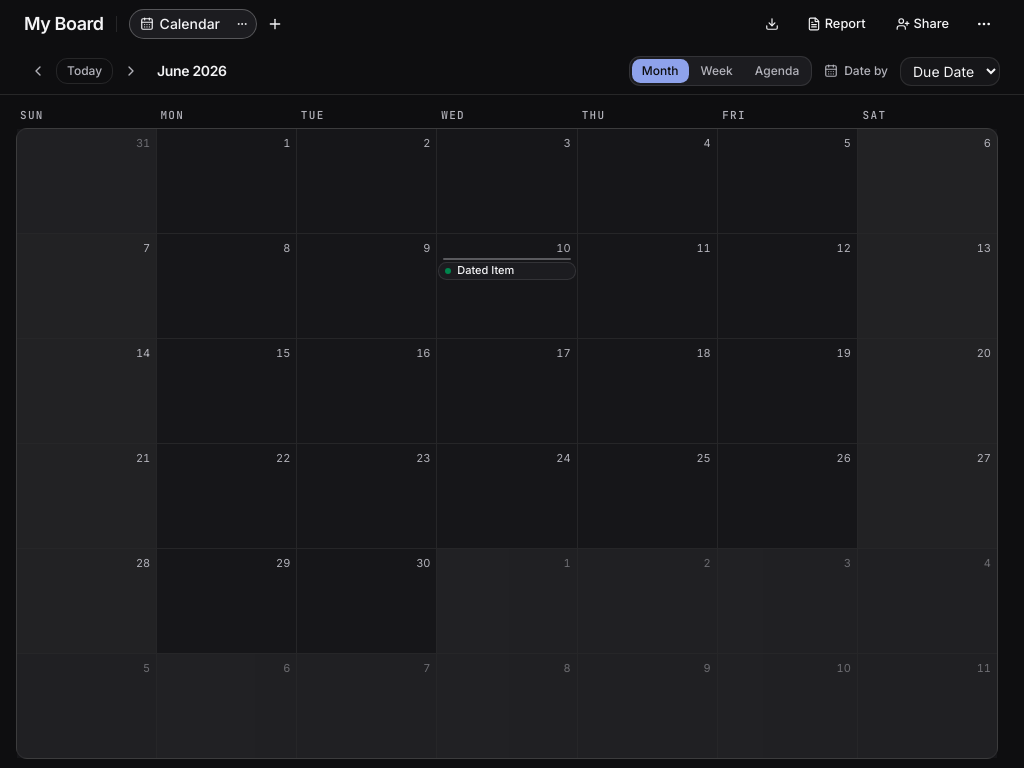
Test: CalendarBoard — quick-edit peek › opens the peek from an agenda row too
Click the tab "Agenda": (777, 71) [745,59,809,83]
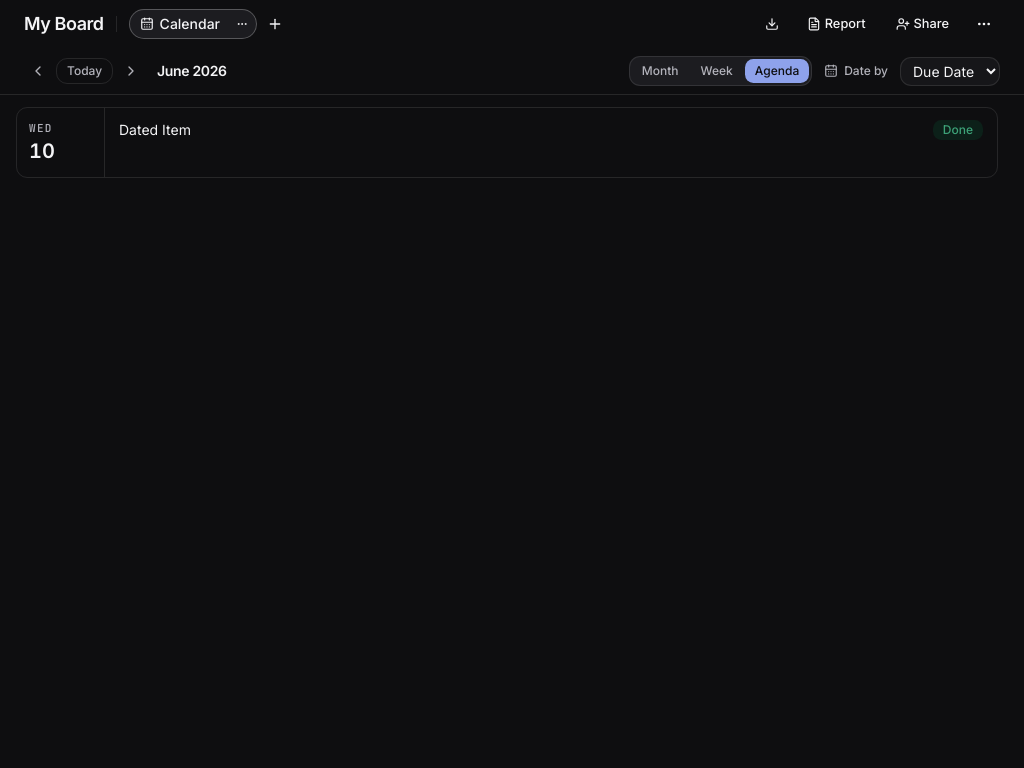
Click the text "Dated Item": (155, 130) [119,121,191,138]
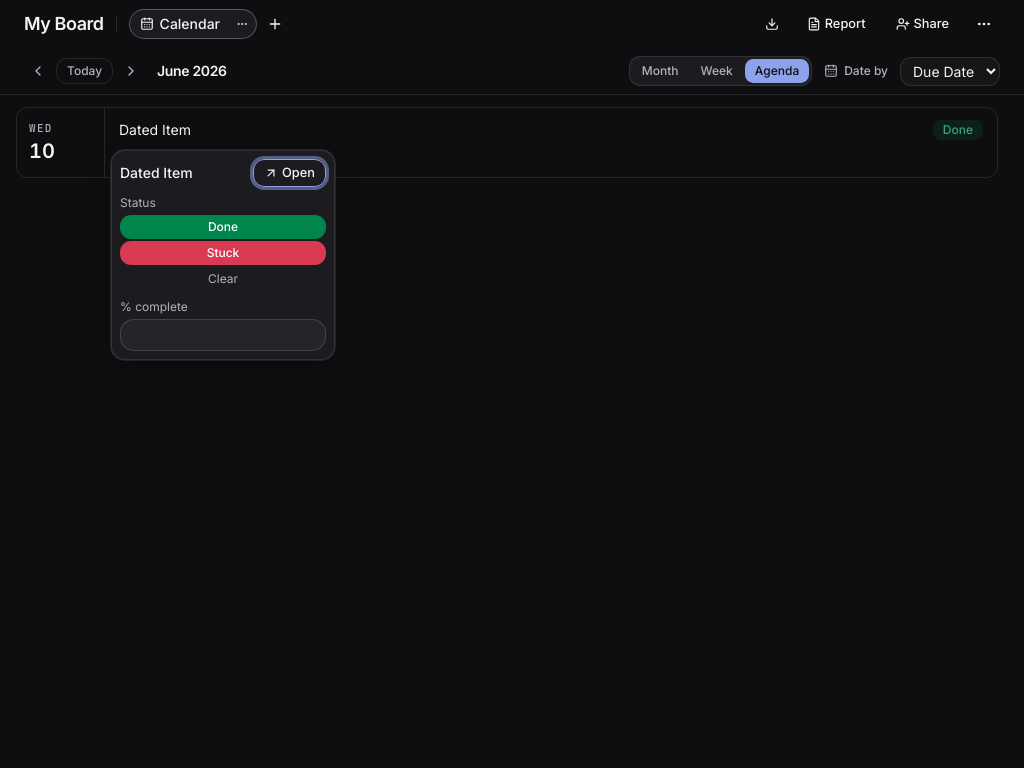
Now the dialog named "Edit Dated Item" is shown, box [111,150,335,360]
